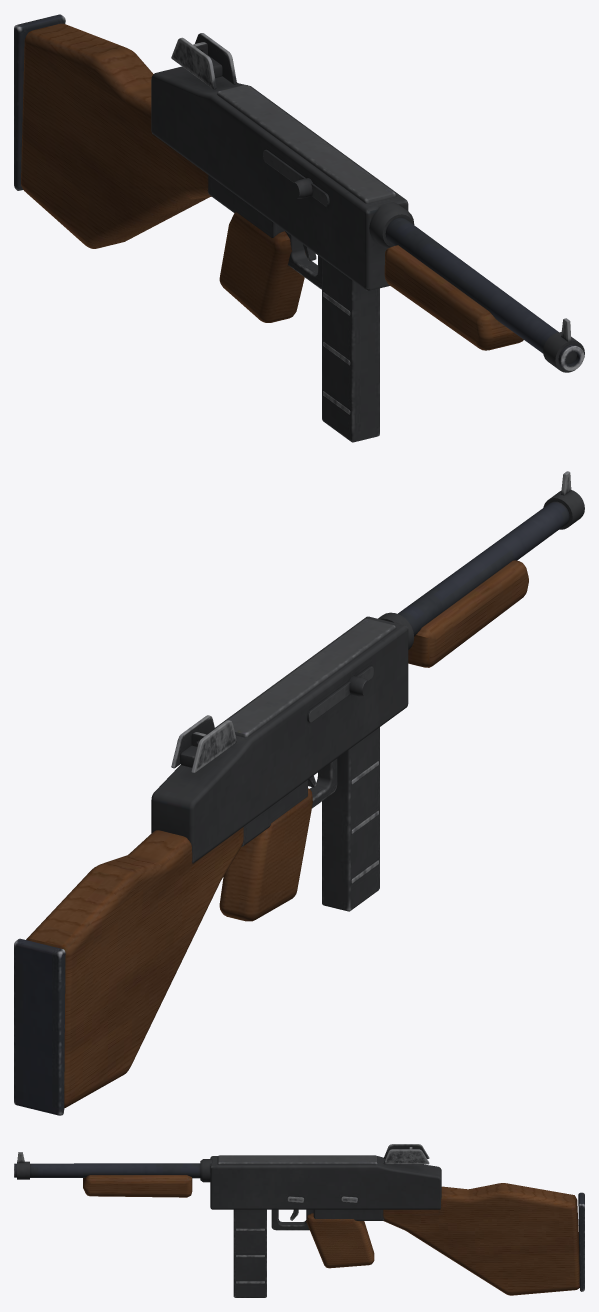
File: smg_tommy.glb
3 renders of one model, top to bottom at view 1: azimuth 30°, elevation 25°; view 2: azimuth 150°, elevation 25°; view 3: azimuth 270°, elevation 25°, orthographic. The views are drawn at different scales.
Visible parts, largest first — view 1: body, mag_mesh; view 2: body, mag_mesh; view 3: body, mag_mesh.
Part boxes in pixels (box(x1,y1,x2,y2)): body: box(14, 14, 584, 372); mag_mesh: box(322, 258, 379, 442); body: box(14, 471, 584, 1115); mag_mesh: box(322, 727, 379, 911); body: box(14, 1144, 584, 1295); mag_mesh: box(233, 1209, 266, 1297).
Size of the model in its own units: 0.0528 by 0.2321 by 0.8133.
Materials: 1 (1 with a texture image).
